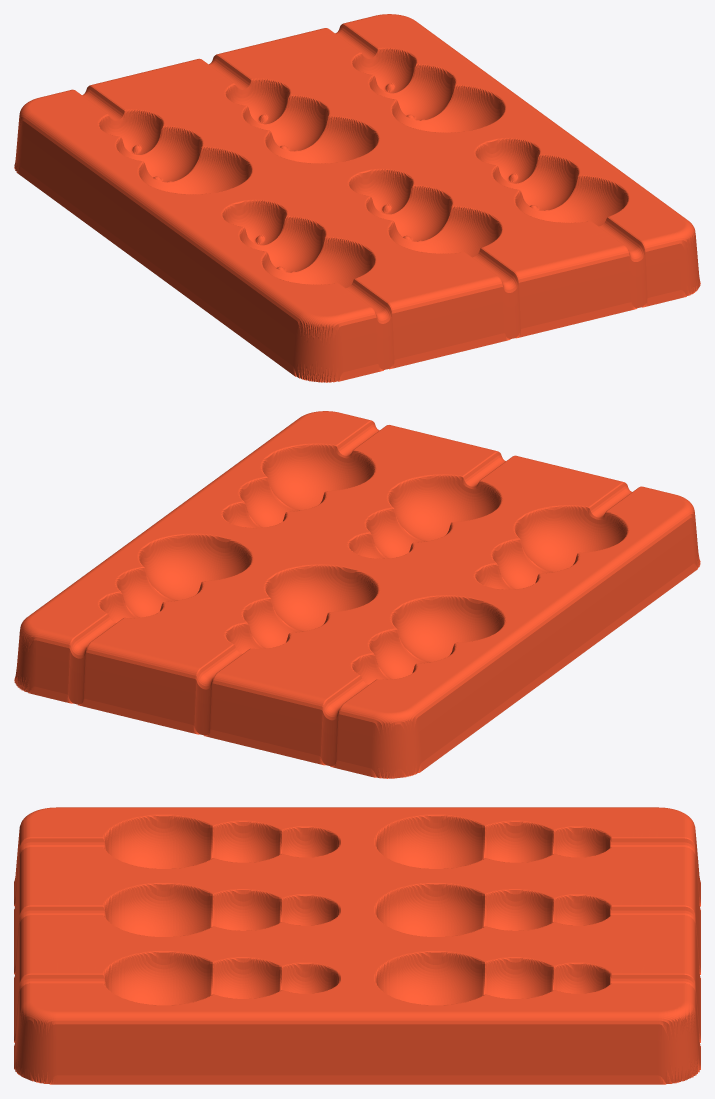
The model's file is mold.glb.
3 views of the same model, one above another, from view 1: azimuth 30°, elevation 25°; view 2: azimuth 150°, elevation 25°; view 3: azimuth 270°, elevation 25° (orthographic). The views are drawn at different scales.
Parts seen in each view (by area): view 1: geometry_0; view 2: geometry_0; view 3: geometry_0.
Part boxes in pixels (box(x1,y1,x2,y2)): geometry_0: box(14, 14, 700, 382); geometry_0: box(14, 411, 700, 778); geometry_0: box(14, 807, 700, 1084).
Bounding box in the file's own units: 0.1096 × 0.0155 × 0.1465.
